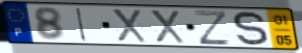8: (32, 5, 67, 42)
I: (74, 6, 88, 42)
S: (231, 10, 271, 47)
X: (148, 8, 187, 45), (110, 7, 149, 44)
Z: (192, 9, 233, 46)
